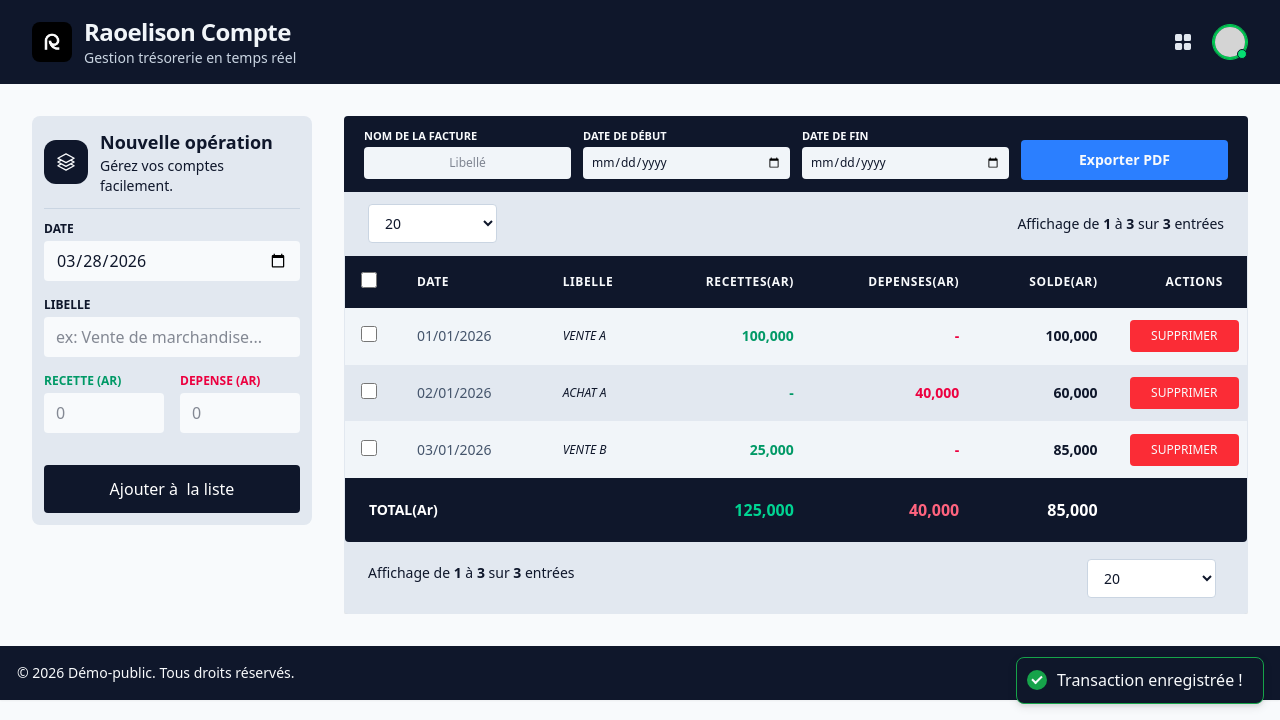
Test: App - Business and critical flows › shows bulk delete count when three rows are selected
Expected: the text "Gestion trésorerie en temps réel" is shown, [84, 48, 296, 68]
Expected: the text "VENTE A" is shown, [539, 308, 656, 364]
Click the checkbox named "Sélectionner VENTE A".
click(369, 334)  # box [361, 326, 377, 342]
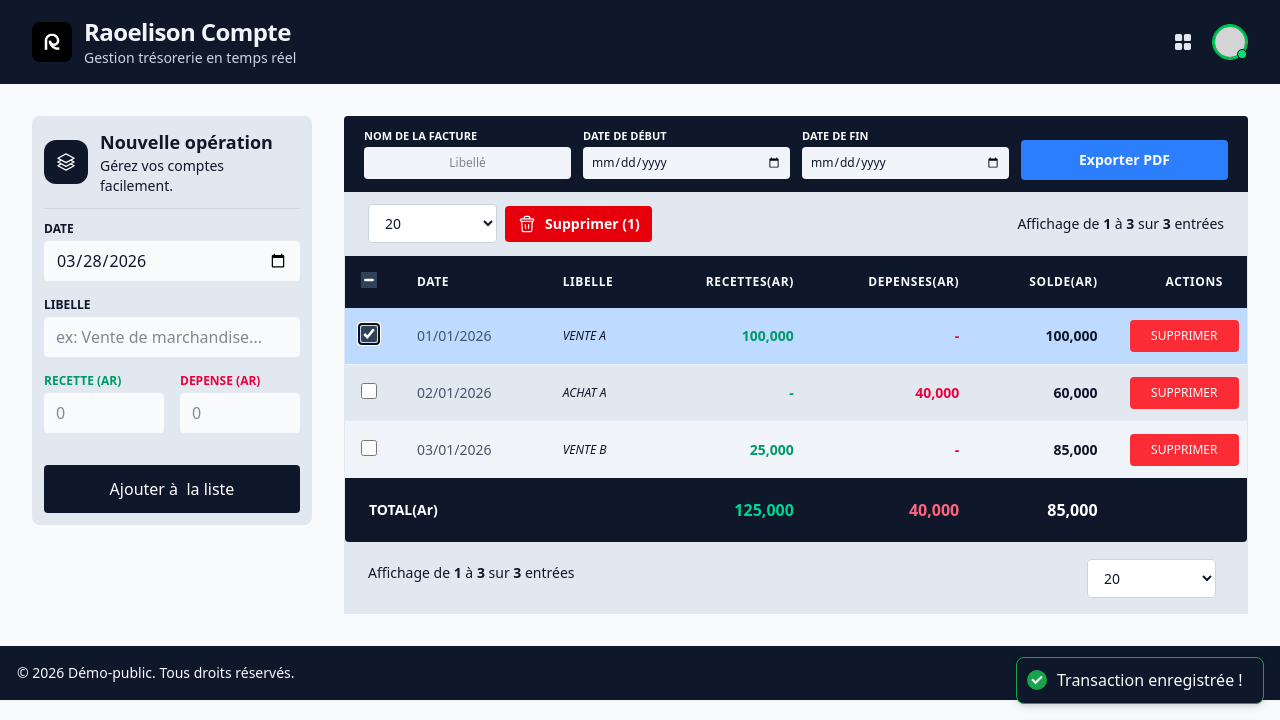
Click the checkbox named "Sélectionner ACHAT A".
click(369, 391)  # box [361, 383, 377, 399]
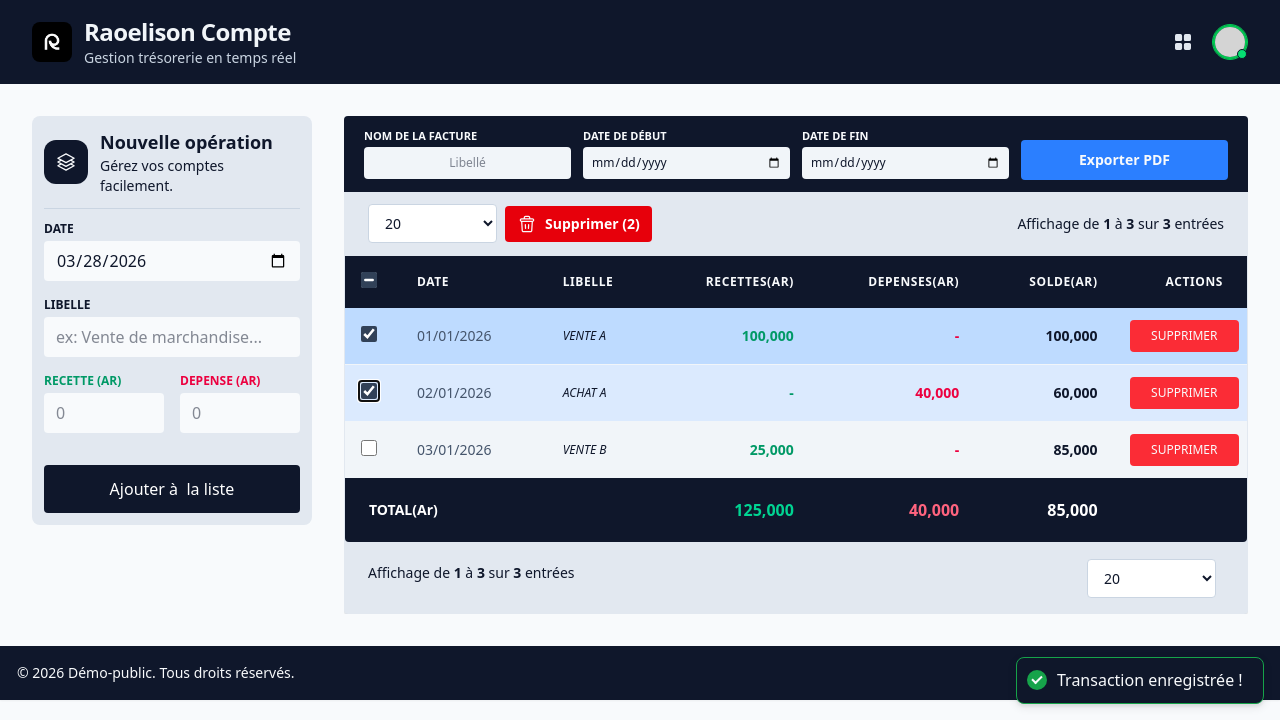
Click the checkbox named "Sélectionner VENTE B".
click(369, 448)  # box [361, 440, 377, 456]
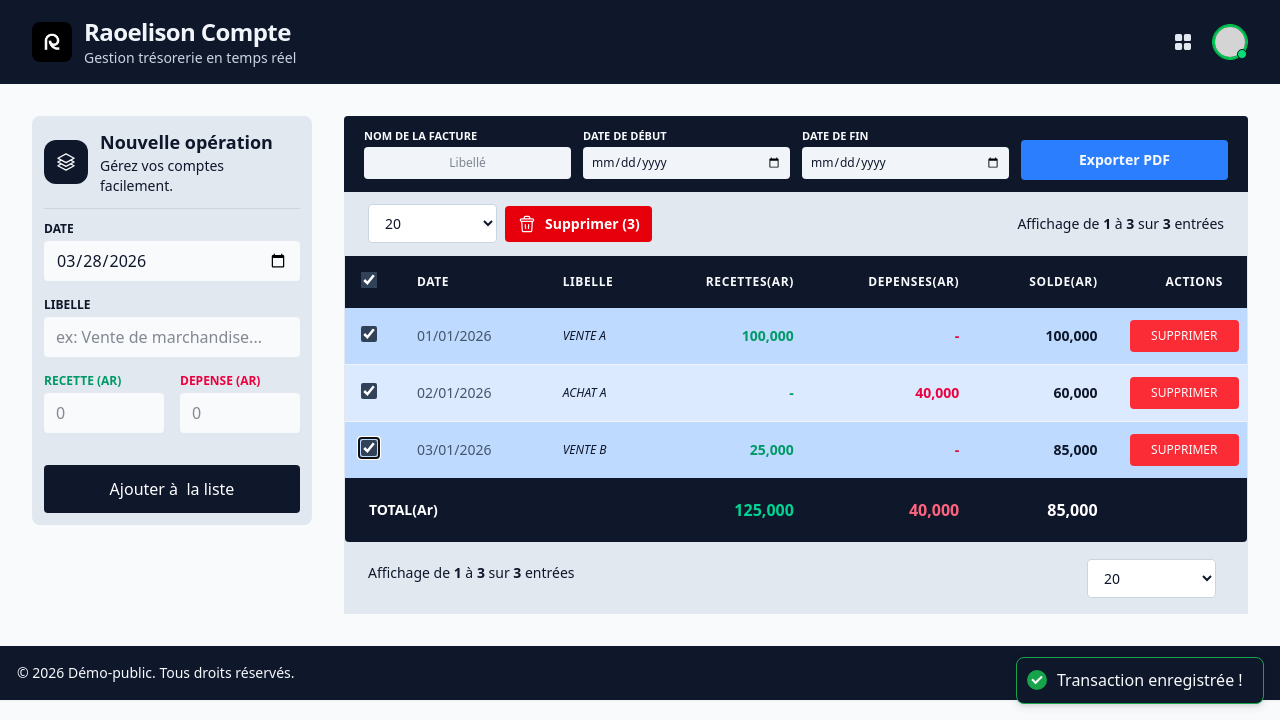
Expected: the button "Supprimer (3)" is shown, [505, 206, 652, 242]
